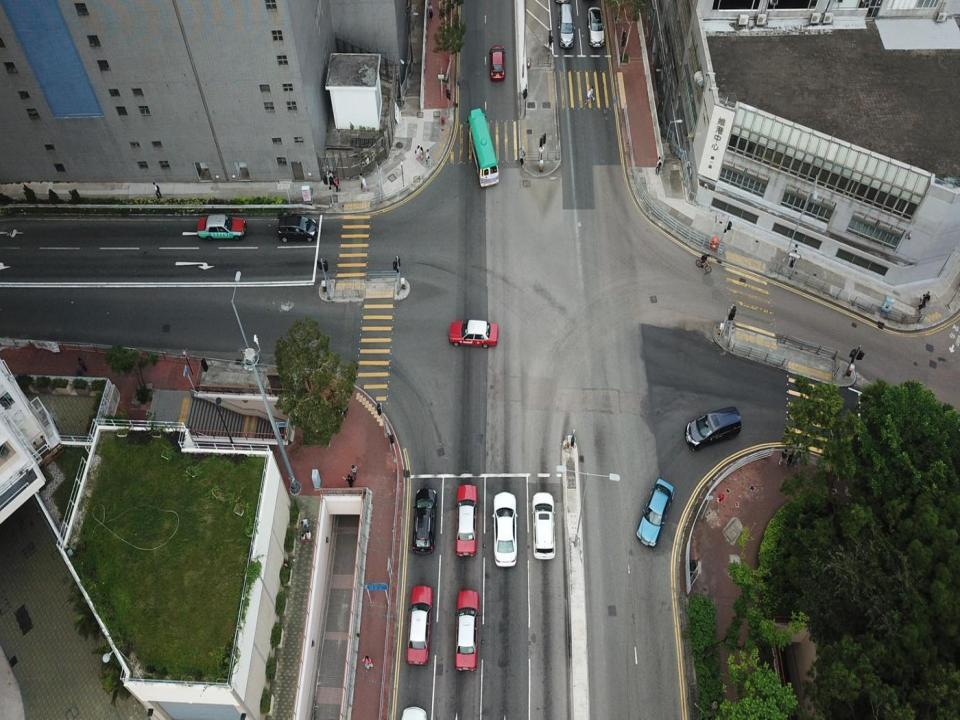bus: (466, 109, 500, 187)
car: (636, 477, 673, 549), (490, 489, 519, 566), (407, 585, 432, 663), (410, 487, 438, 554), (455, 590, 477, 672), (531, 492, 557, 560), (454, 483, 478, 556), (449, 321, 499, 350), (197, 213, 245, 240), (279, 216, 320, 244), (587, 5, 604, 46), (489, 44, 507, 79), (399, 705, 426, 719)
van: (685, 407, 742, 452), (560, 2, 574, 46)
